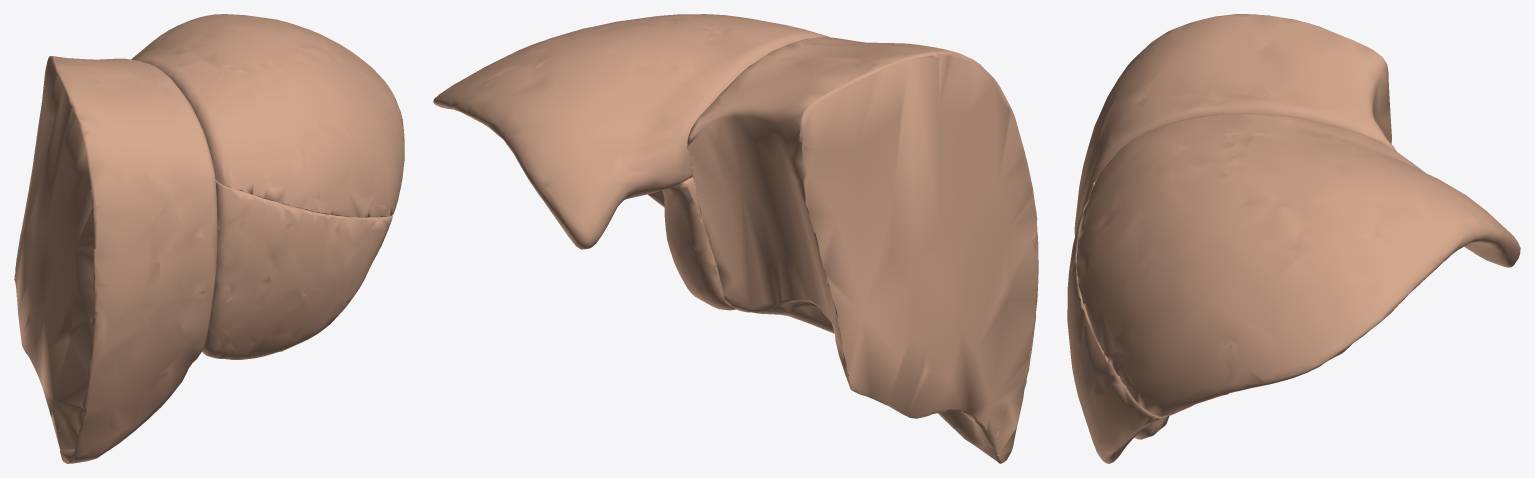
Rendered from lobo_esquerdo.glb.
3 views of the same model, side by side, from view 1: azimuth 30°, elevation 25°; view 2: azimuth 150°, elevation 25°; view 3: azimuth 270°, elevation 25° (orthographic). The views are drawn at different scales.
Parts seen in each view (by area): view 1: lobo_esquerdo; view 2: lobo_esquerdo; view 3: lobo_esquerdo.
Part boxes in pixels (box(x1,y1,x2,y2)): lobo_esquerdo: box(14, 14, 404, 463); lobo_esquerdo: box(433, 14, 1038, 463); lobo_esquerdo: box(1067, 14, 1520, 463).
Bounding box in the file's own units: 0.1407 × 0.1185 × 0.1108.
